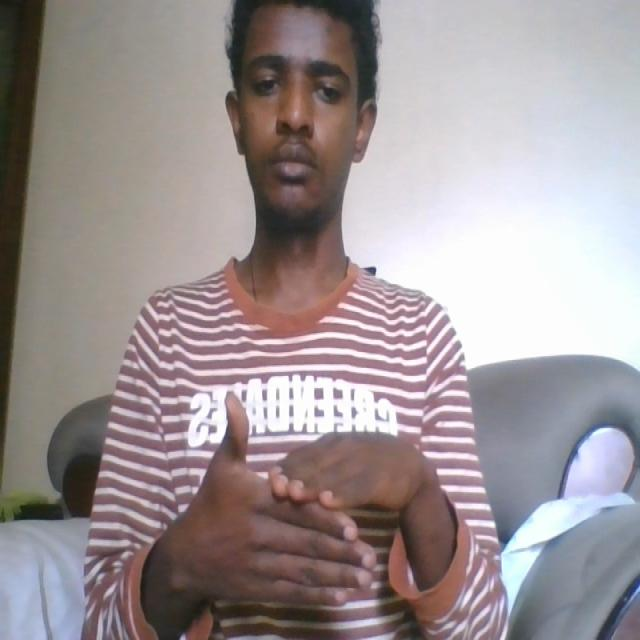tadya: (214, 427, 433, 615)
